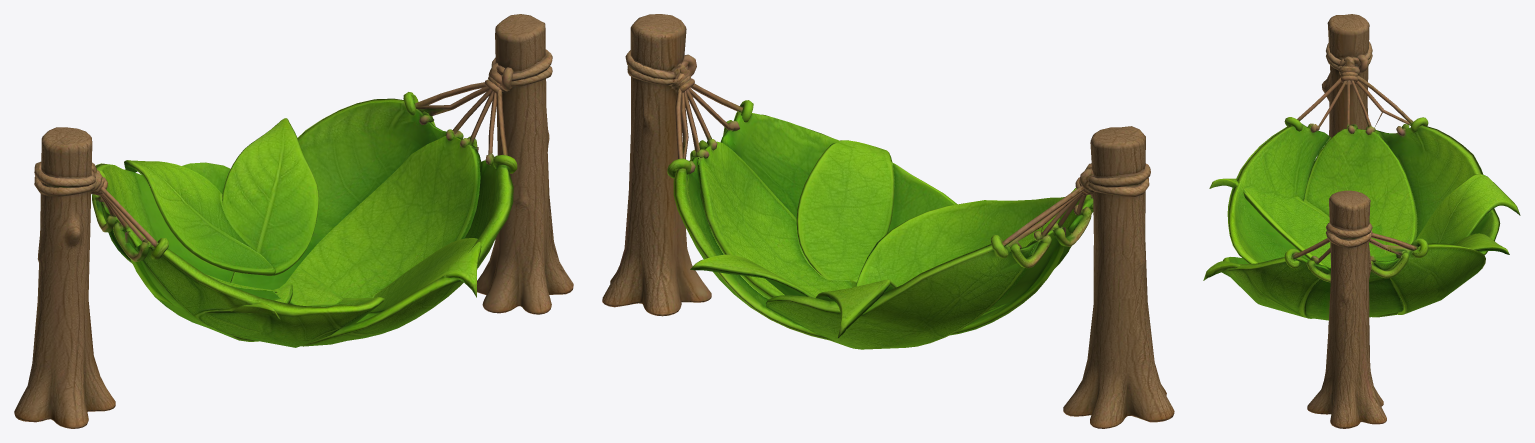
File: Hammock.fbx
3 views of the same model, side by side, from view 1: azimuth 30°, elevation 25°; view 2: azimuth 150°, elevation 25°; view 3: azimuth 270°, elevation 25° (orthographic). The views are drawn at different scales.
Parts seen in each view (by area): view 1: Hammock, Tree, Tree2; view 2: Hammock, Tree, Tree2; view 3: Hammock, Tree2, Tree.
Part boxes in pixels (<box>): Hammock: <box>34,49,552,347</box>; Tree: <box>14,127,115,428</box>; Tree2: <box>477,14,573,314</box>; Hammock: <box>625,50,1150,349</box>; Tree: <box>1063,126,1174,428</box>; Tree2: <box>602,14,711,316</box>; Hammock: <box>1203,41,1520,320</box>; Tree2: <box>1307,190,1386,428</box>; Tree: <box>1322,14,1369,140</box>.
Size of the model in its own units: 99.95 by 46.73 by 62.65.
